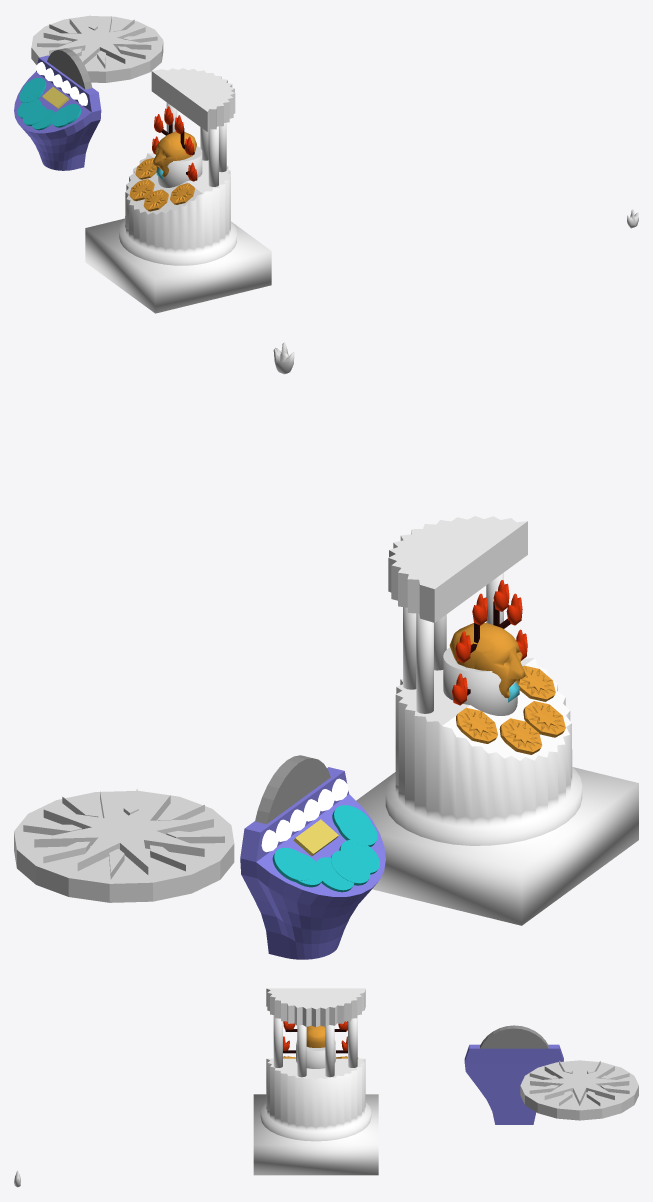
Rendered from booth_v2.glb.
The picture shows the model from 3 angles, top to bottom: view 1: azimuth 30°, elevation 25°; view 2: azimuth 150°, elevation 25°; view 3: azimuth 270°, elevation 25°; orthographic projection. The views are drawn at different scales.
Parts seen in each view (by area): view 1: Cube, Device_v2, Base, Device_v2.001, Shield_Face, Shield, Pillar.001, LoudSpeaker, Head_Cutout, Mball.005; view 2: Device_v2, Cube, Shield, Base, Device_v2.001, Shield_Face, Pillar.001, LoudSpeaker, Head_Cutout, Mball.005, Hair, Shield.001 (+6 smaller); view 3: Device_v2, Cube, Base, Device_v2.001, Shield, Shield_Face, Pillar.001, LoudSpeaker, Head_Cutout, Hair.
Part boxes in pixels (x1=…): Cube: x1=85, y1=218, x2=271, y2=313; Device_v2: x1=119, y1=153, x2=236, y2=265; Base: x1=14, y1=55, x2=101, y2=170; Device_v2.001: x1=151, y1=68, x2=235, y2=131; Shield_Face: x1=37, y1=15, x2=157, y2=68; Shield: x1=31, y1=16, x2=163, y2=82; Pillar.001: x1=166, y1=102, x2=226, y2=186; LoudSpeaker: x1=47, y1=48, x2=92, y2=89; Head_Cutout: x1=158, y1=146, x2=202, y2=187; Mball.005: x1=152, y1=135, x2=187, y2=177; Device_v2: x1=385, y1=658, x2=582, y2=845; Cube: x1=356, y1=767, x2=638, y2=925; Shield: x1=14, y1=790, x2=234, y2=902; Base: x1=240, y1=767, x2=385, y2=959; Device_v2.001: x1=388, y1=516, x2=527, y2=622; Shield_Face: x1=23, y1=788, x2=224, y2=879; Pillar.001: x1=403, y1=572, x2=503, y2=713; LoudSpeaker: x1=255, y1=755, x2=330, y2=824; Head_Cutout: x1=443, y1=647, x2=517, y2=715; Mball.005: x1=474, y1=628, x2=525, y2=698; Hair: x1=449, y1=623, x2=510, y2=670; Shield.001: x1=499, y1=718, x2=542, y2=754; Device_v2: x1=260, y1=1058, x2=371, y2=1141; Cube: x1=253, y1=1094, x2=378, y2=1175; Base: x1=464, y1=1044, x2=563, y2=1124; Device_v2.001: x1=266, y1=988, x2=365, y2=1027; Shield: x1=520, y1=1060, x2=638, y2=1120; Shield_Face: x1=529, y1=1060, x2=629, y2=1105; Pillar.001: x1=273, y1=1015, x2=357, y2=1077; LoudSpeaker: x1=480, y1=1025, x2=548, y2=1048; Head_Cutout: x1=296, y1=1040, x2=335, y2=1068; Hair: x1=306, y1=1025, x2=325, y2=1047.
Bounding box in the file's own units: 7.27 × 3.6 × 12.59.
